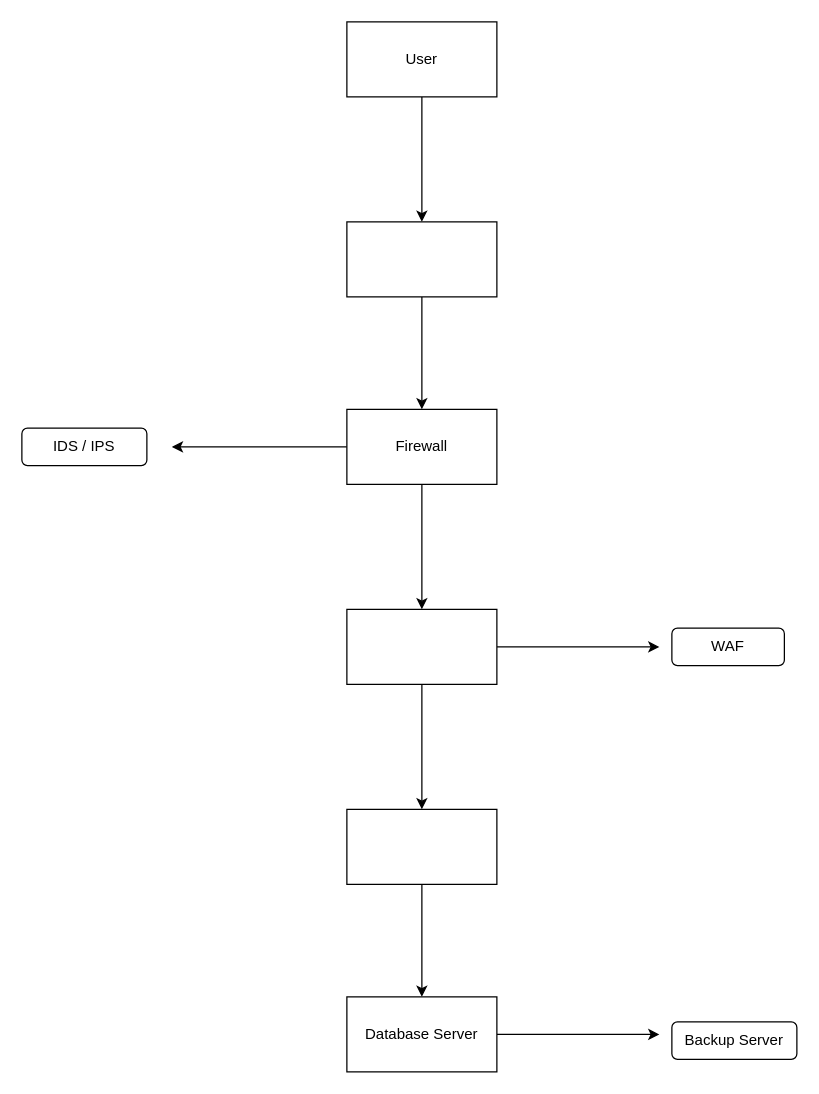
This 819x1094 diagram has some shape labels left out. The centre of each missing label's shape, as x and y in pixels:
"Application Server" belongs at (x=421, y=846).
"Internet" belongs at (x=421, y=259).
"Web Server" belongs at (x=421, y=646).
